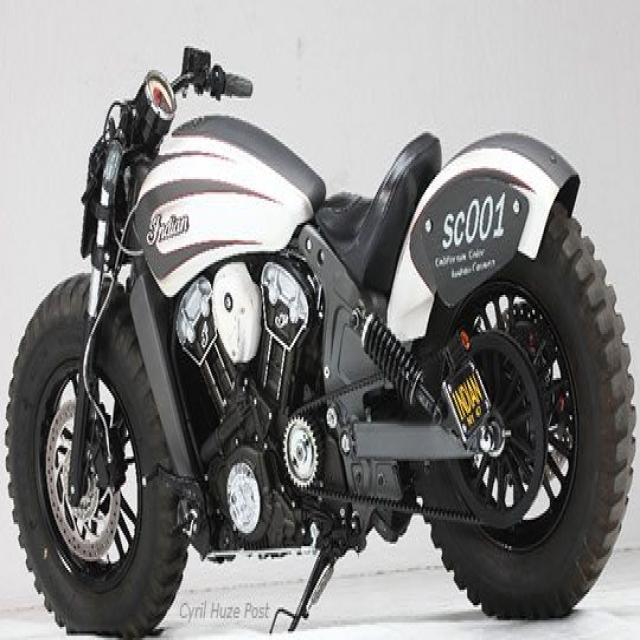motorcycle: (8, 46, 635, 635)
